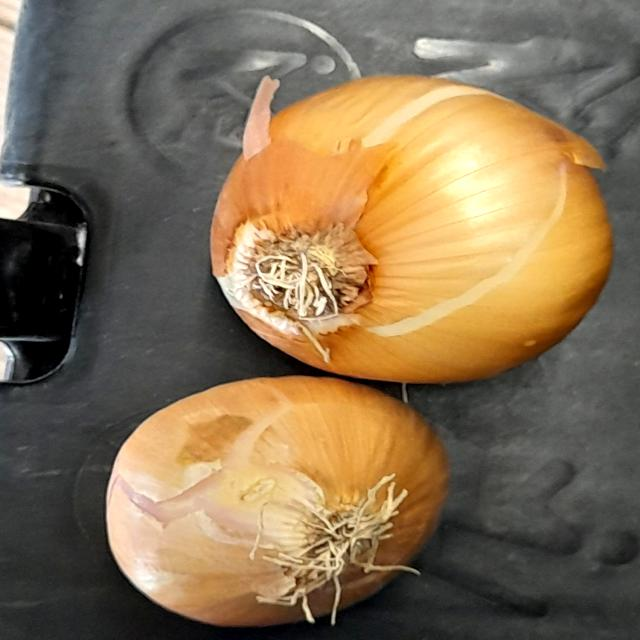onion: (201, 57, 620, 388), (61, 361, 472, 640)
